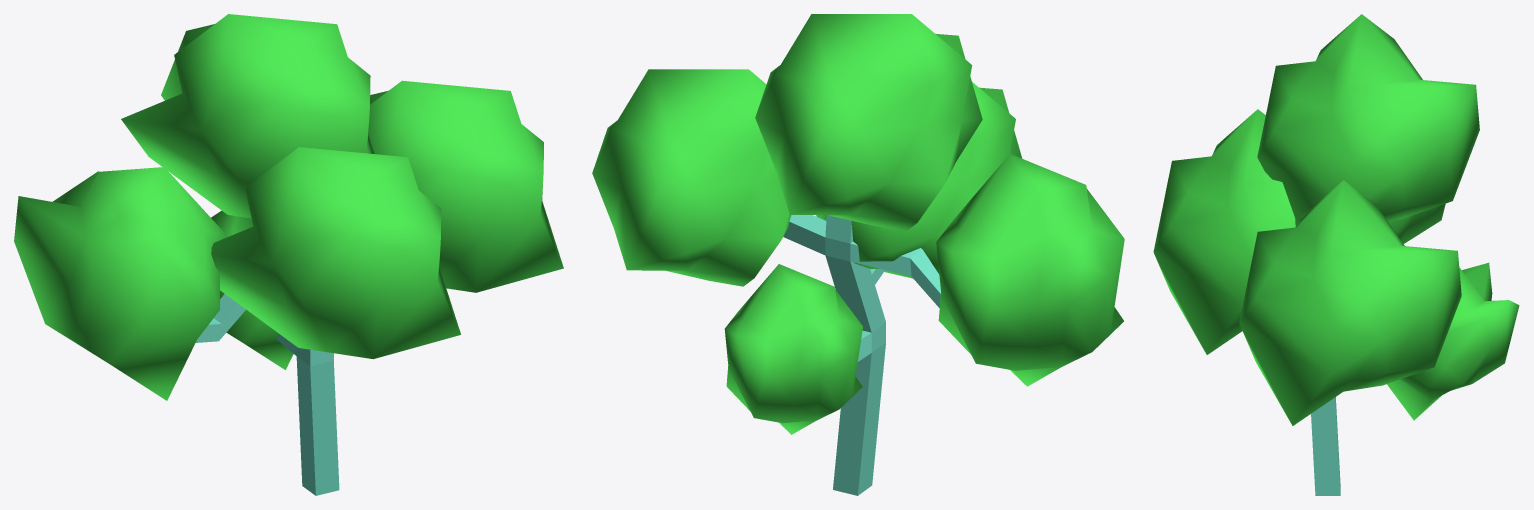
Rendered from Arvore 2.fbx.
3 renders of one model, left to right at view 1: azimuth 30°, elevation 25°; view 2: azimuth 150°, elevation 25°; view 3: azimuth 270°, elevation 25°, orthographic. The views are drawn at different scales.
Visible parts, largest first — view 1: Icosphere.007, Icosphere.005, Icosphere.004, Icosphere.006, Arvore 2, Icosphere.008; view 2: Icosphere.004, Icosphere.006, Icosphere.005, Icosphere.008, Arvore 2, Icosphere.007; view 3: Icosphere.006, Icosphere.004, Icosphere.007, Icosphere.008, Arvore 2, Icosphere.005.
Boxes of the visible parts, x1,y1,x2,y2 form: Icosphere.007: [211, 147, 460, 359]; Icosphere.005: [14, 167, 227, 400]; Icosphere.004: [121, 14, 374, 218]; Icosphere.006: [368, 80, 563, 292]; Arvore 2: [195, 294, 339, 495]; Icosphere.008: [211, 210, 293, 369]; Icosphere.004: [755, 14, 982, 231]; Icosphere.006: [592, 69, 791, 286]; Icosphere.005: [936, 154, 1124, 386]; Icosphere.008: [724, 264, 862, 434]; Arvore 2: [783, 215, 940, 495]; Icosphere.007: [816, 82, 1022, 278]; Icosphere.006: [1239, 180, 1461, 425]; Icosphere.004: [1257, 14, 1479, 227]; Icosphere.007: [1153, 109, 1295, 354]; Icosphere.008: [1387, 262, 1519, 420]; Arvore 2: [1311, 397, 1340, 495]; Icosphere.005: [1388, 203, 1445, 243].
Size of the model in its own units: 343 by 326 by 244.
